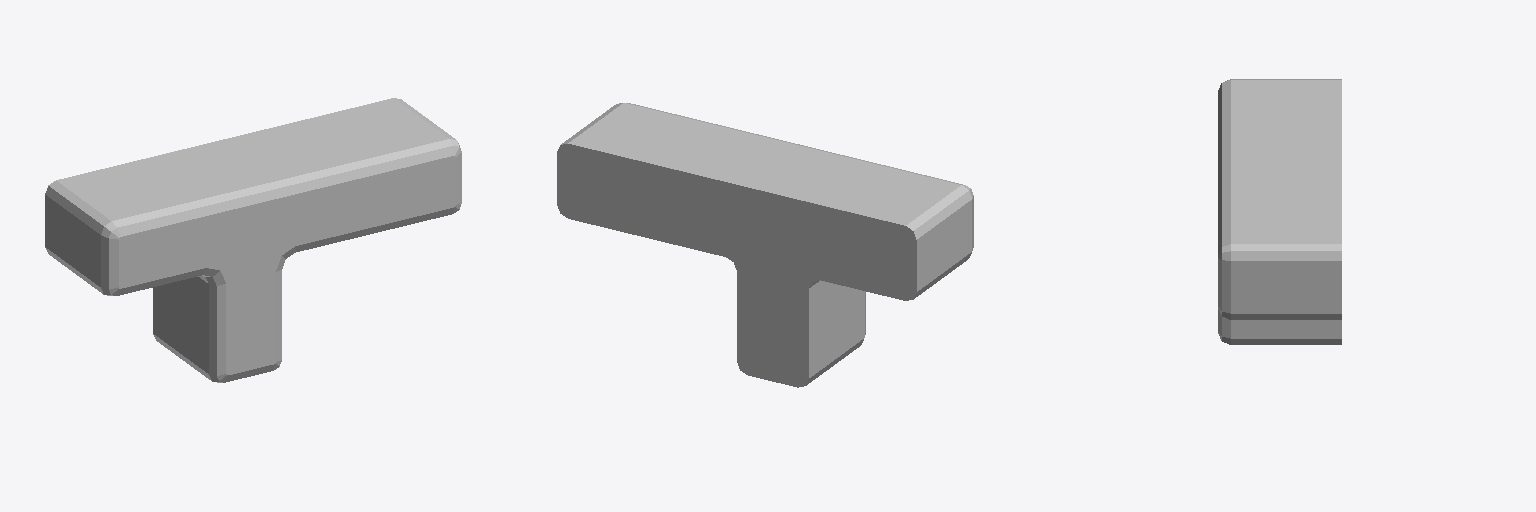
The model's file is 100_LongTLeft.obj.
3 views of the same model, side by side, from view 1: azimuth 30°, elevation 25°; view 2: azimuth 150°, elevation 25°; view 3: azimuth 270°, elevation 25° (orthographic).
Parts seen in each view (by area): view 1: LongTLeft_Plane.863; view 2: LongTLeft_Plane.863; view 3: LongTLeft_Plane.863.
Boxes of the visible parts, x1,y1,x2,y2 form: LongTLeft_Plane.863: [45, 98, 461, 382]; LongTLeft_Plane.863: [557, 103, 973, 387]; LongTLeft_Plane.863: [1218, 79, 1341, 344].
Bounding box in the file's own units: 10 × 5 × 3.